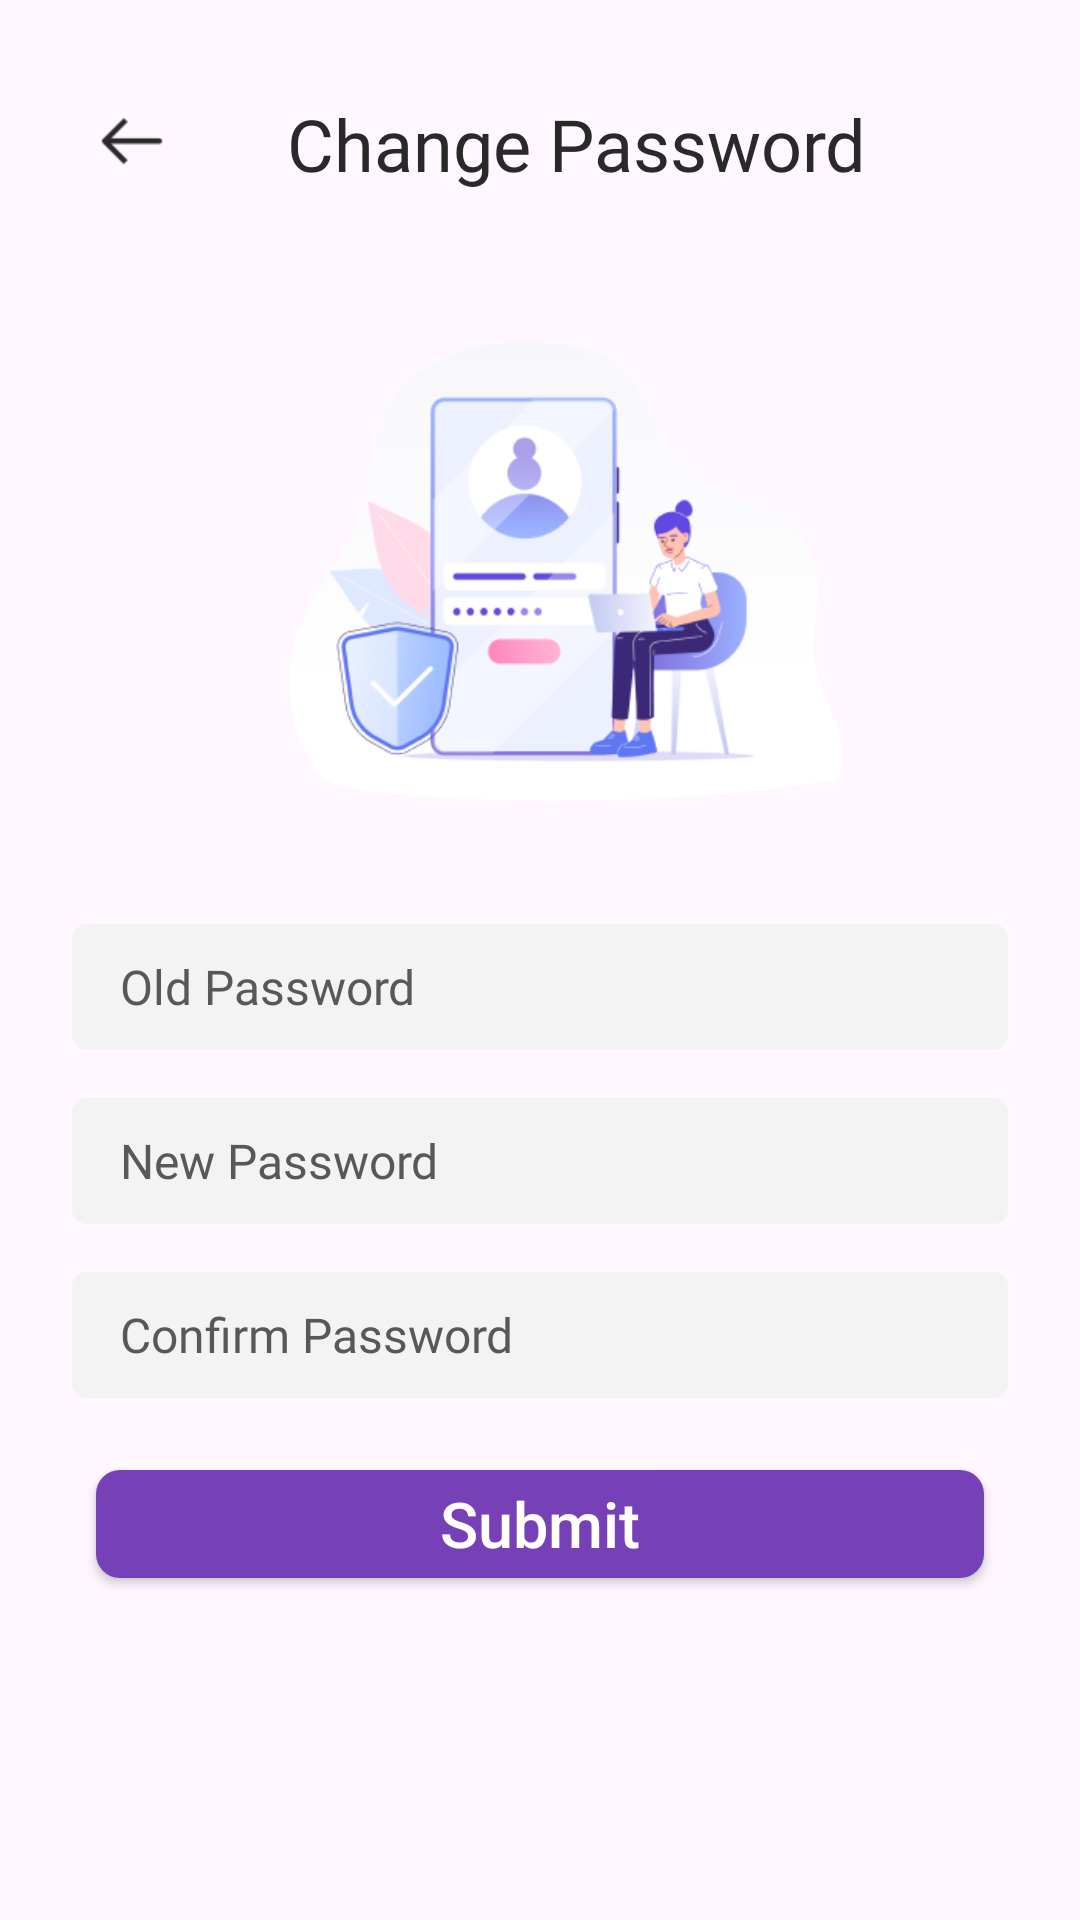

Icon bounding boxes for this 1080×1920 phone screenshot, format (x1, y1, x2, y2):
arrow left: (101, 117, 163, 164)
